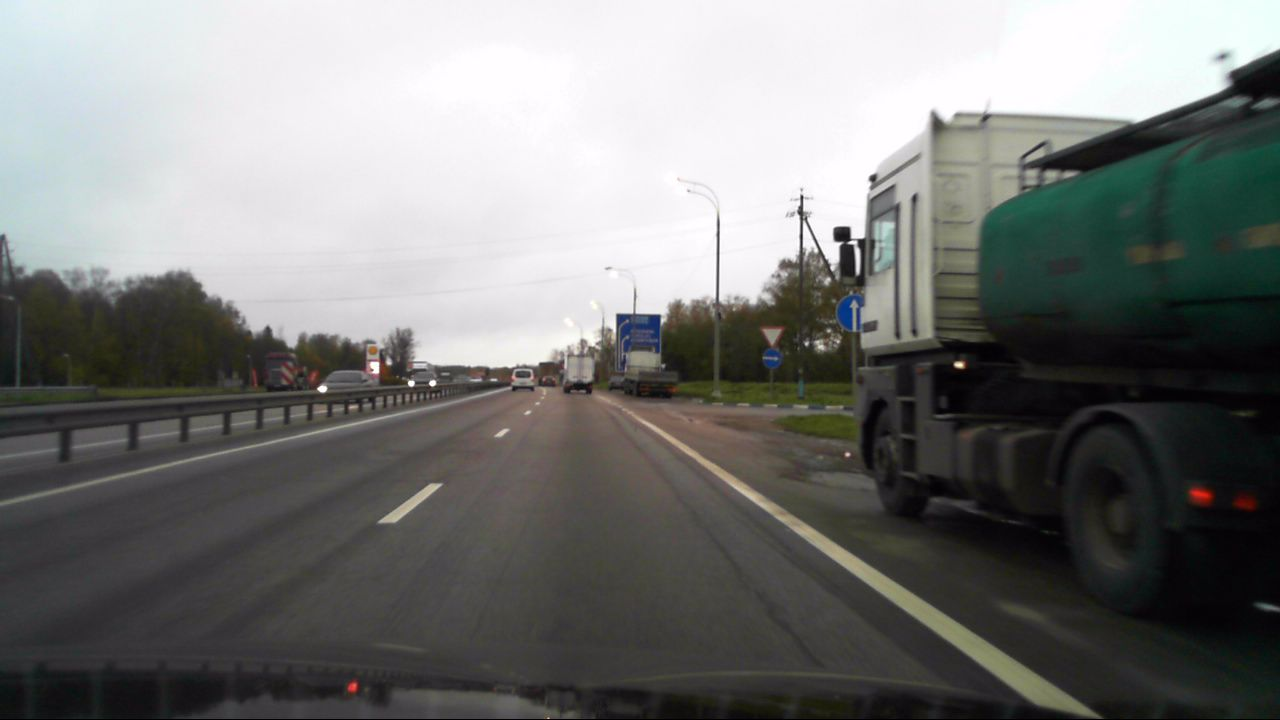Turn Right: (762, 348, 782, 370)
